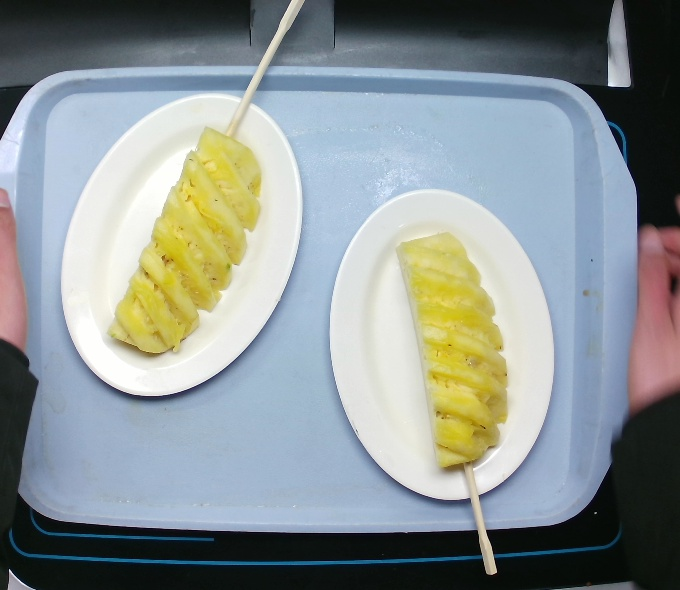wcq-BoLuo: (95, 116, 279, 375), (376, 220, 523, 487)
